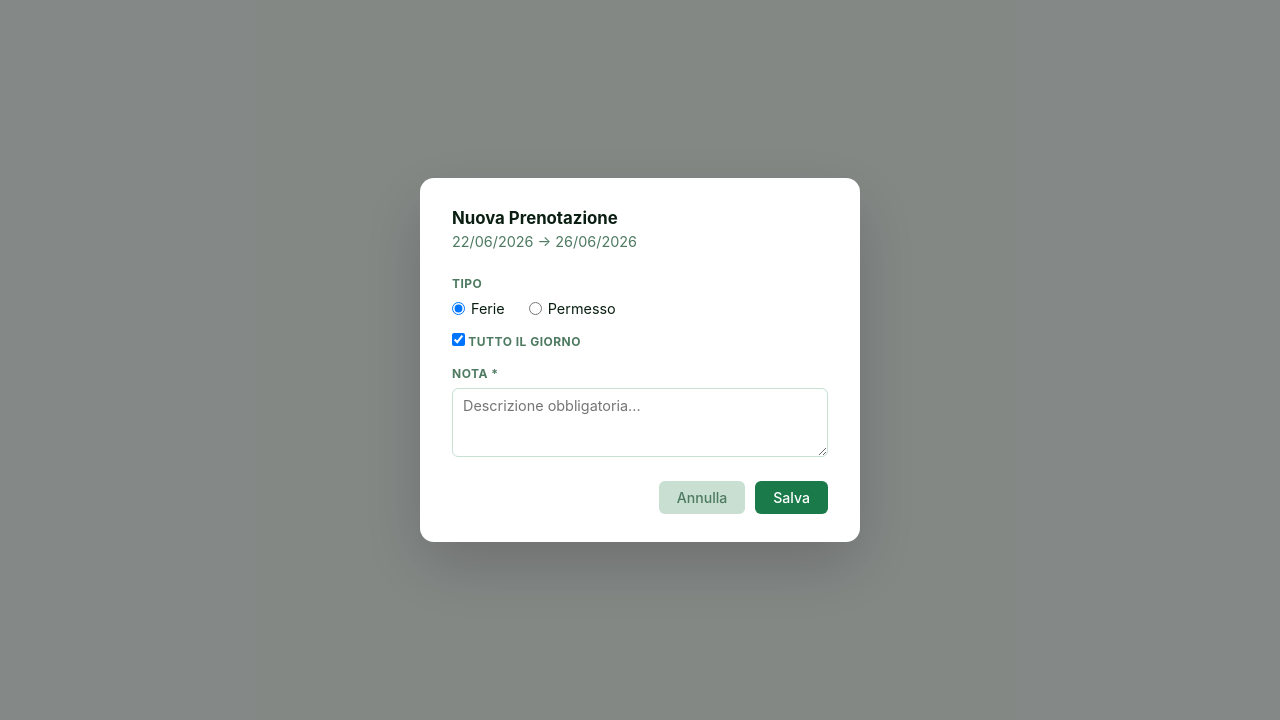
Test: BookingModal.vue › mostra errore se nota mancante
The width and height of the screenshot is (1280, 720).
Step 1. Click the button "Salva" → (792, 498), box 755,481 -> 828,514
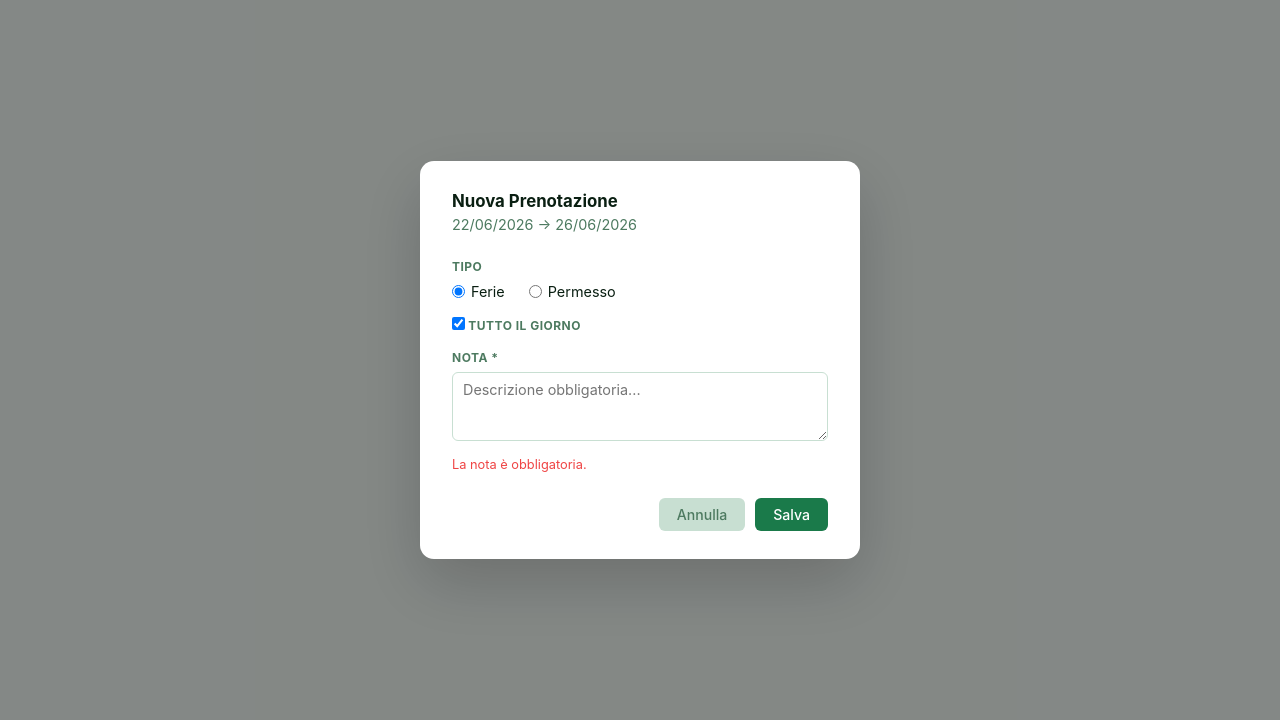
Expected: the text "La nota è obbligatoria" is shown, 452,457 -> 587,472
